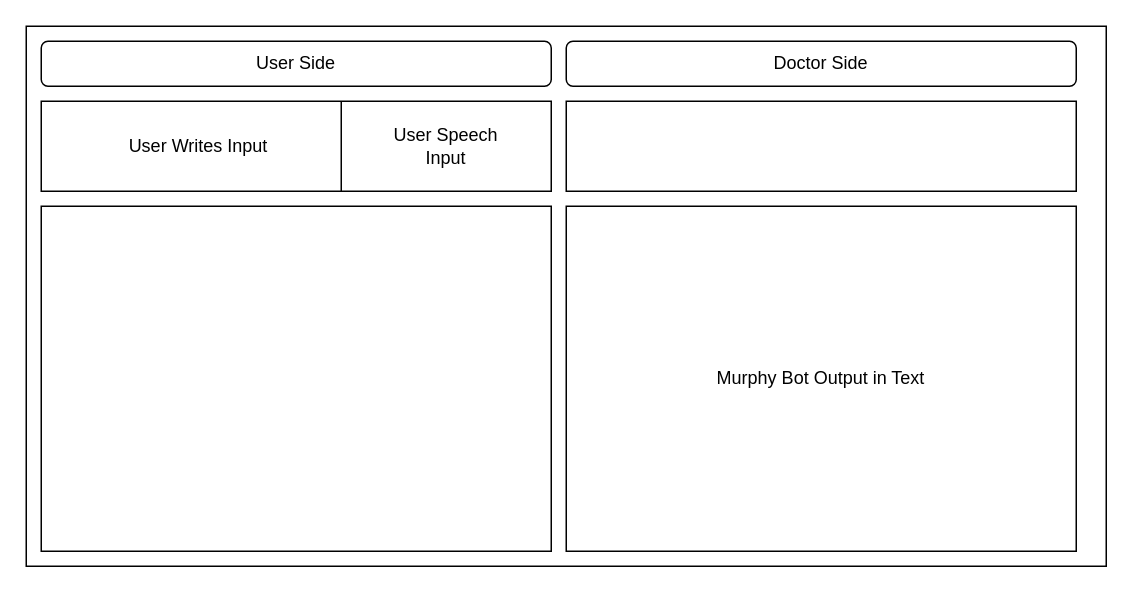
The diagram is 1133 pixels wide and 593 high, and some of its shapes have lost their labels. The centre of each missing label's shape, as x and y in pixels:
"Image/Doc Upload Option" goes at (295,378).
"Murphy Bot Output in Speech" goes at (820,145).
